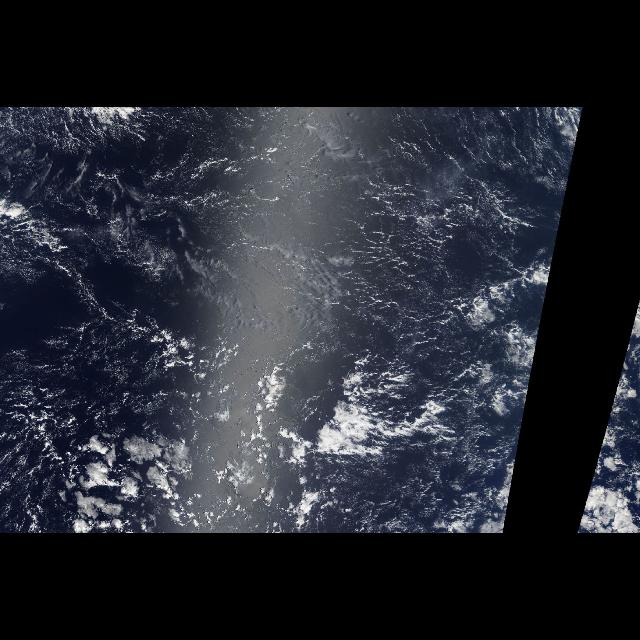Flower: (38, 406, 208, 530)
Sugar: (1, 111, 582, 361)
